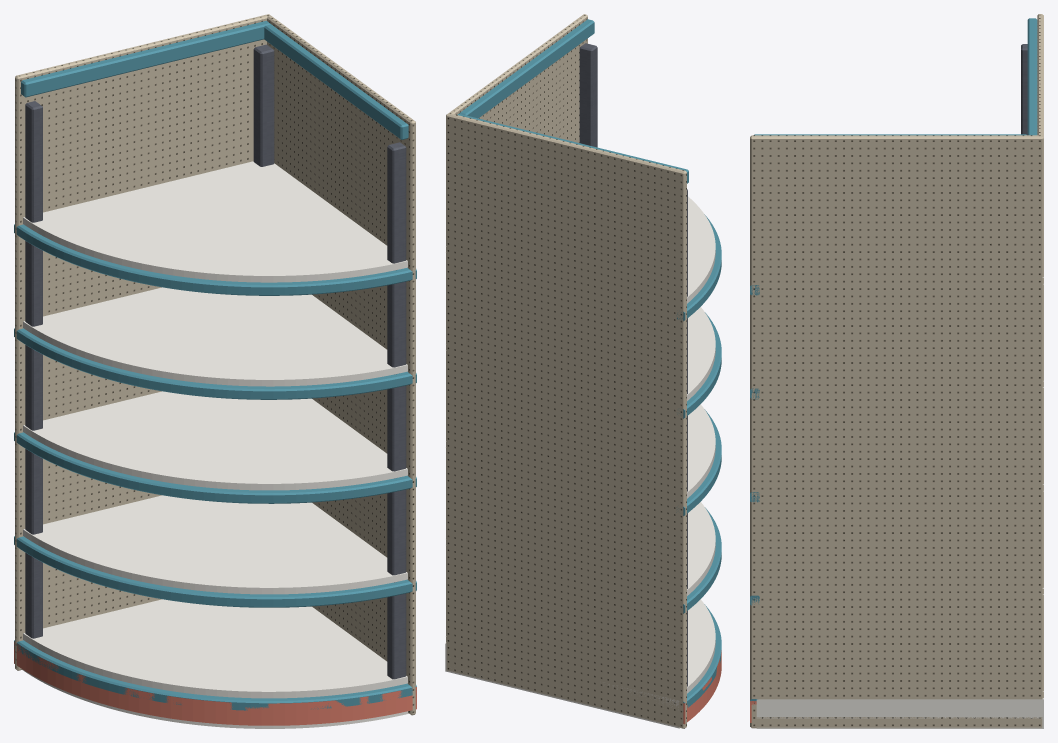
The model's file is shelf_corner.glb.
The picture shows the model from 3 angles, left to right: view 1: azimuth 30°, elevation 25°; view 2: azimuth 150°, elevation 25°; view 3: azimuth 270°, elevation 25°; orthographic projection. The views are drawn at different scales.
Parts seen in each view (by area): view 1: shelf_corner.001; view 2: shelf_corner.001; view 3: shelf_corner.001.
Boxes of the visible parts, x1,y1,x2,y2 form: shelf_corner.001: (14,14,416,728); shelf_corner.001: (445,14,721,728); shelf_corner.001: (750,14,1043,728).
Size of what is drawn, in the model's own units: 0.9 by 2 by 0.9.
Materials: 5 (2 with a texture image).
